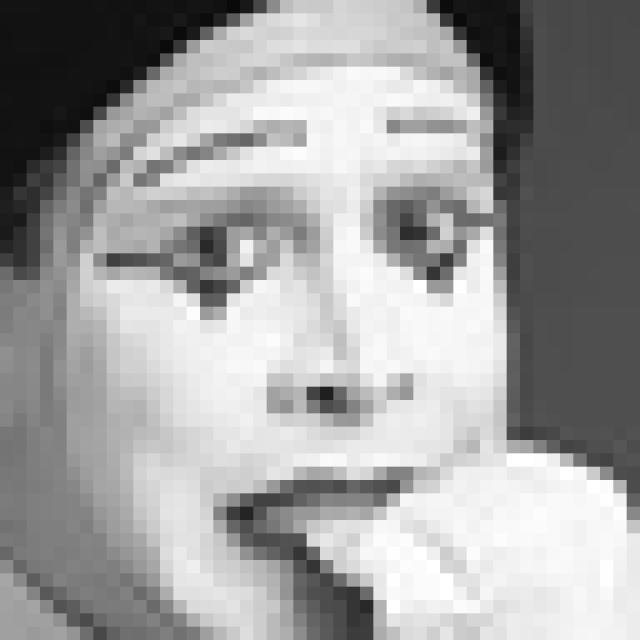fear: (87, 98, 497, 568)
